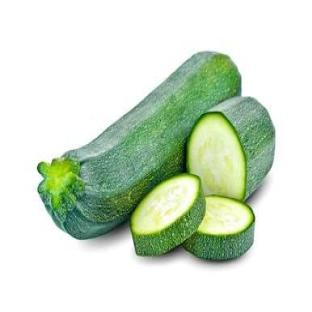Zucchini: (38, 52, 240, 238), (187, 98, 274, 200), (131, 174, 205, 255), (184, 196, 254, 260)
